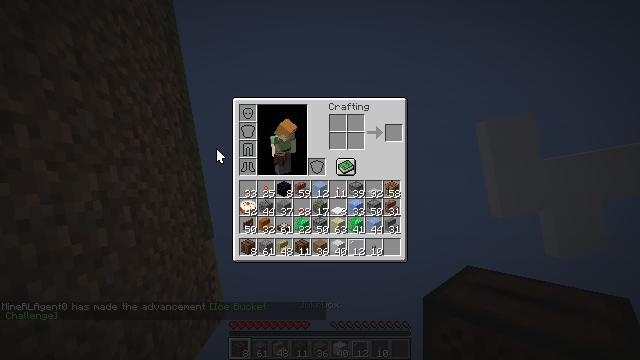cursor: (148, 216, 164, 226)
